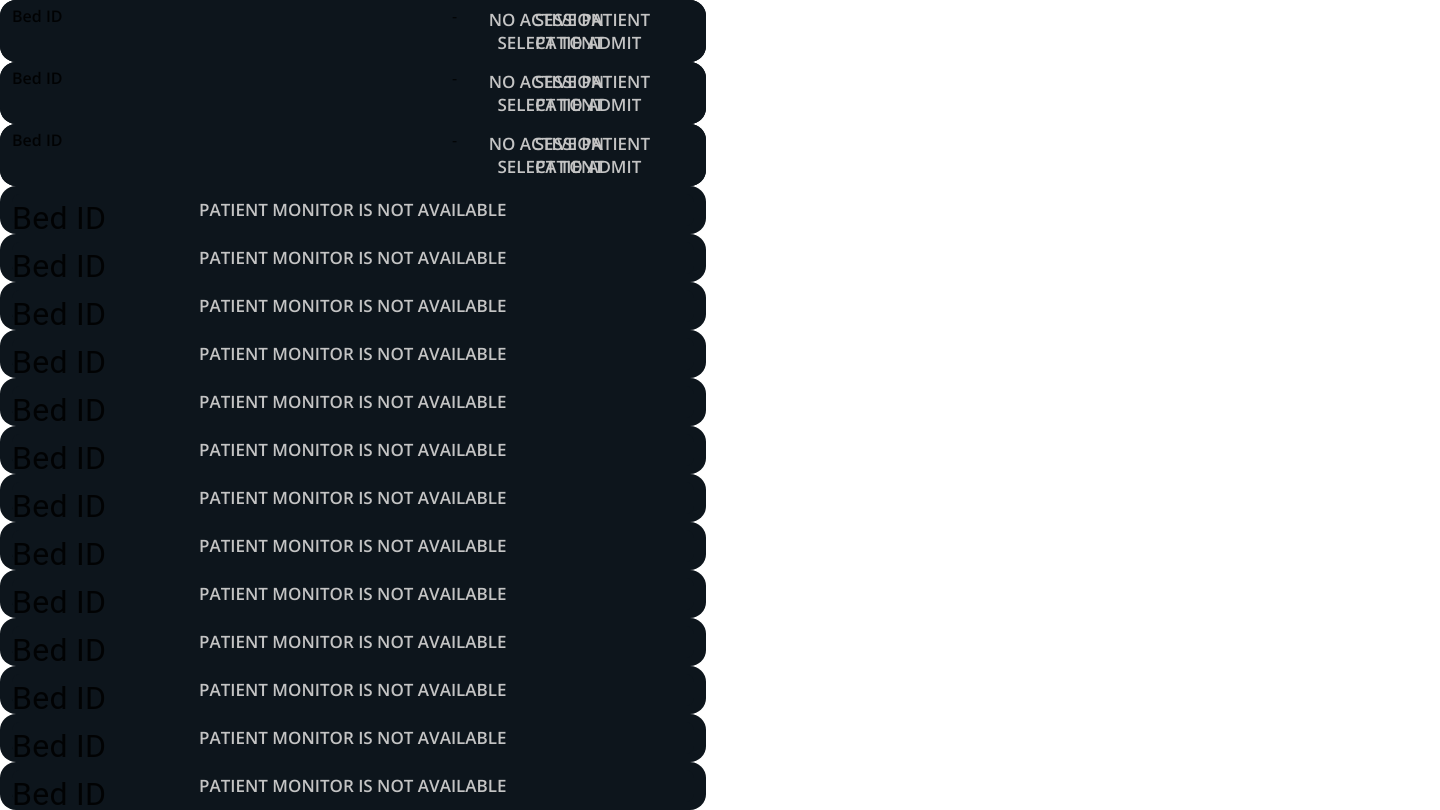
Test: Home › renders all components
What coordinates should you click on to do the following:
click the 1st element with test id "graph-card-container"
I would click on:
 (353, 31)
Its box is [0,0,706,62].
Wait 50 ms
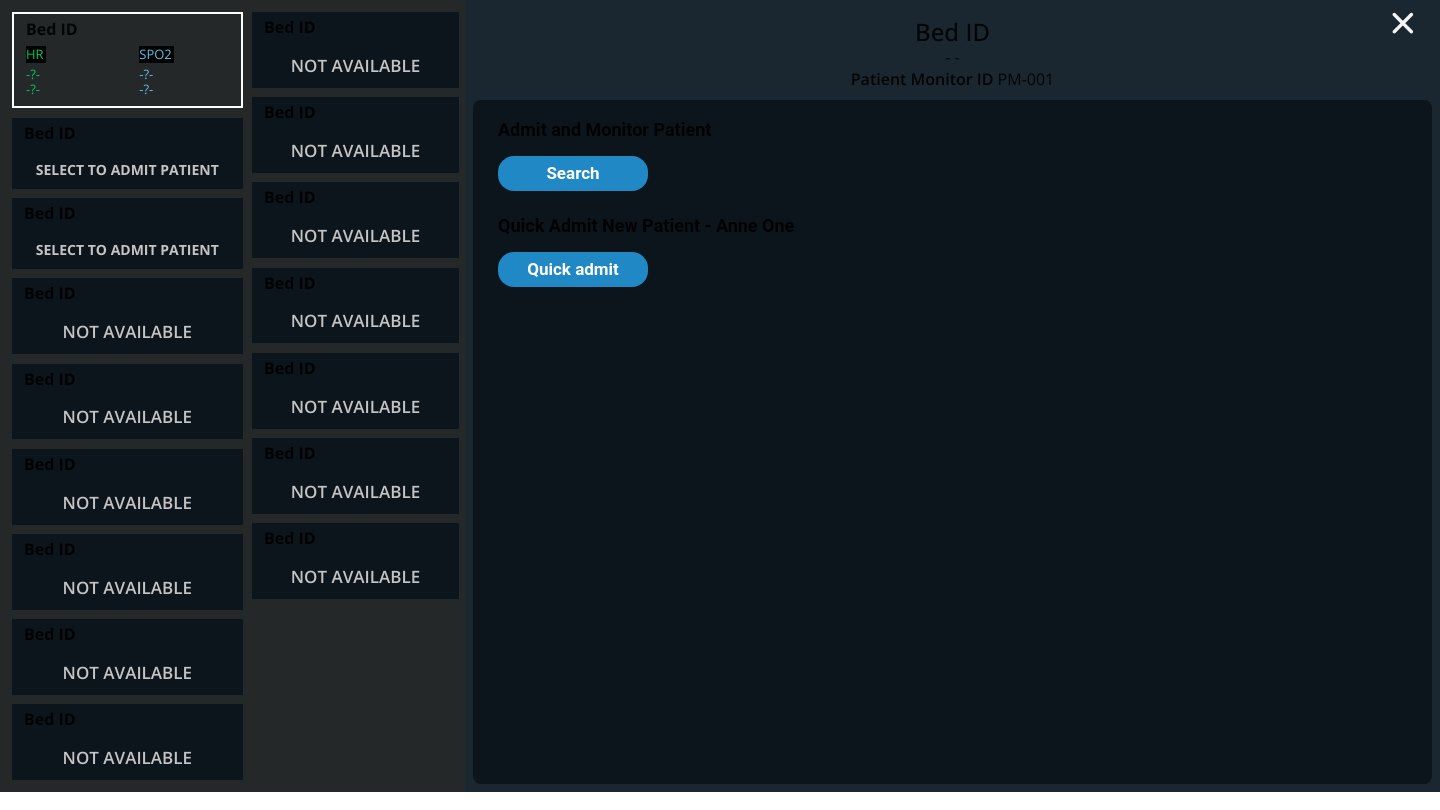
Result: the element with test id "selected-bed" is shown
